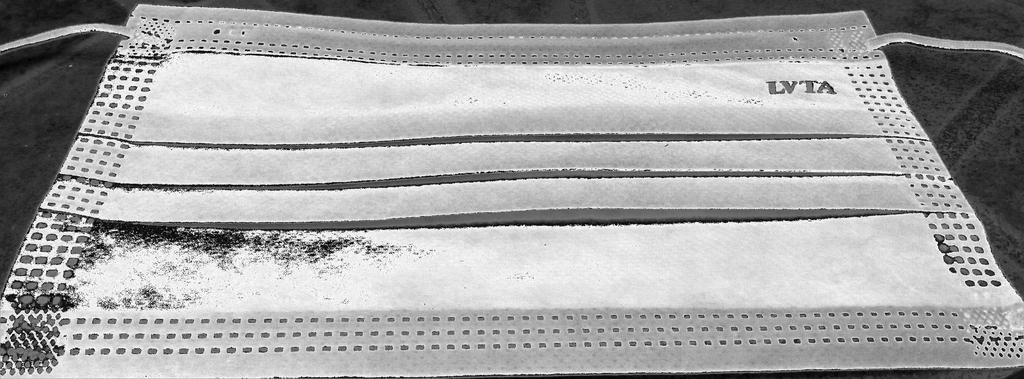High GSM: (62, 27, 976, 339)
